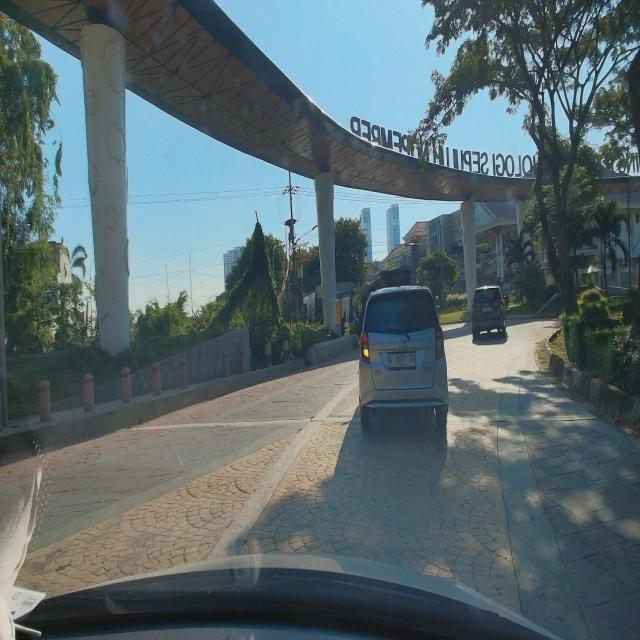car: (356, 284, 450, 434), (471, 284, 507, 343)
license-plate: (388, 351, 418, 374), (481, 305, 494, 315)
